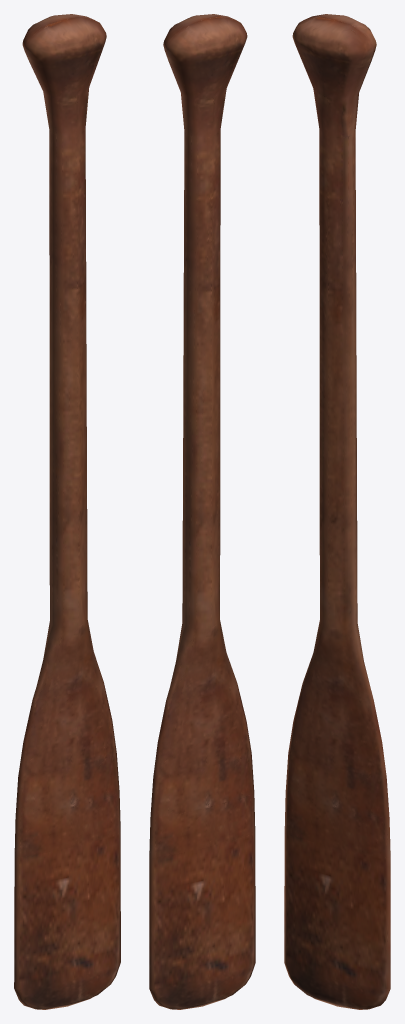
File: oar.glb
The picture shows the model from 3 angles, left to right: view 1: azimuth 30°, elevation 25°; view 2: azimuth 210°, elevation 25°; view 3: azimuth 330°, elevation 25°; orthographic projection.
Parts seen in each view (by area): view 1: pCylinder1; view 2: pCylinder1; view 3: pCylinder1.
Boxes of the visible parts, <box> form: pCylinder1: <box>14,14,120,1009</box>; pCylinder1: <box>149,14,255,1009</box>; pCylinder1: <box>284,14,390,1009</box>.
Bounding box in the file's own units: 6.74 × 59.61 × 3.49.
1 material, 1 textured.
